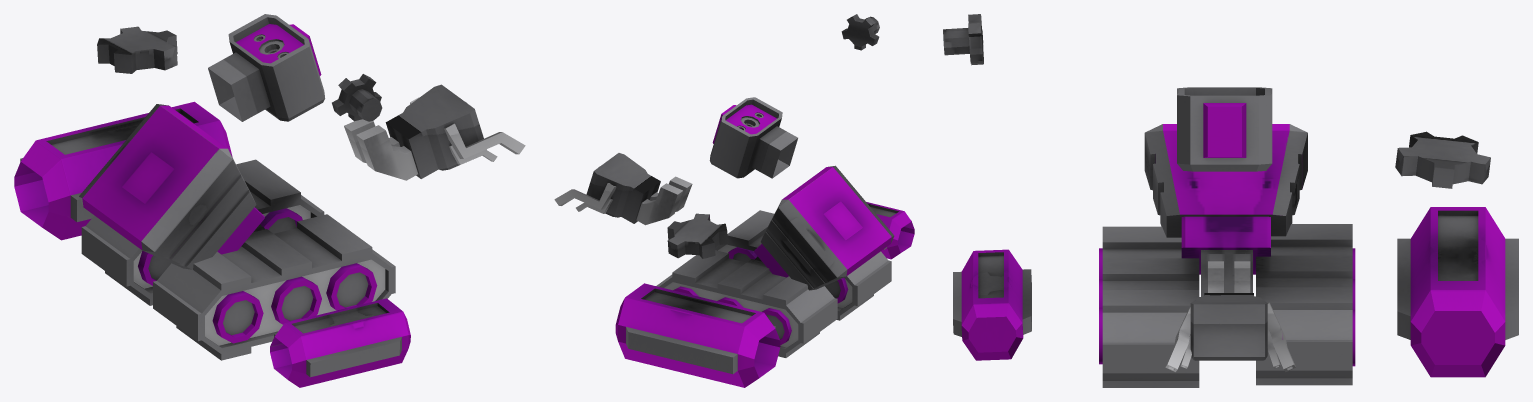
Rendered from Enemy2_Die20.obj.
3 renders of one model, left to right at view 1: azimuth 30°, elevation 25°; view 2: azimuth 150°, elevation 25°; view 3: azimuth 270°, elevation 25°, orthographic. The views are drawn at different scales.
Parts seen in each view (by area): view 1: Object006, Object013, Object011, Object010, Object012, Object014, Object009, Object008; view 2: Object011, Object006, Object013, Object010, Object012, Object009, Object014, Object008; view 3: Object006, Object011, Object013, Object012, Object010, Object014, Object009, Object008.
Part boxes in pixels (x1,y1,x2,y2): Object006: [81, 159, 395, 360]; Object013: [79, 104, 264, 269]; Object011: [14, 101, 232, 240]; Object010: [344, 84, 525, 180]; Object012: [208, 14, 325, 121]; Object014: [270, 298, 410, 387]; Object009: [97, 26, 177, 73]; Object008: [332, 74, 382, 121]; Object011: [615, 283, 780, 387]; Object006: [656, 210, 891, 357]; Object013: [754, 165, 894, 290]; Object010: [554, 153, 692, 225]; Object012: [709, 97, 797, 178]; Object009: [667, 213, 727, 258]; Object014: [866, 202, 914, 259]; Object008: [841, 14, 879, 50]; Object006: [1099, 224, 1355, 387]; Object011: [1397, 207, 1518, 377]; Object013: [1144, 124, 1307, 296]; Object012: [1177, 87, 1272, 171]; Object010: [1165, 261, 1295, 371]; Object014: [953, 249, 1031, 360]; Object009: [1395, 131, 1490, 188]; Object008: [943, 14, 983, 65].
Bounding box in the file's own units: 171 × 129 × 204.
